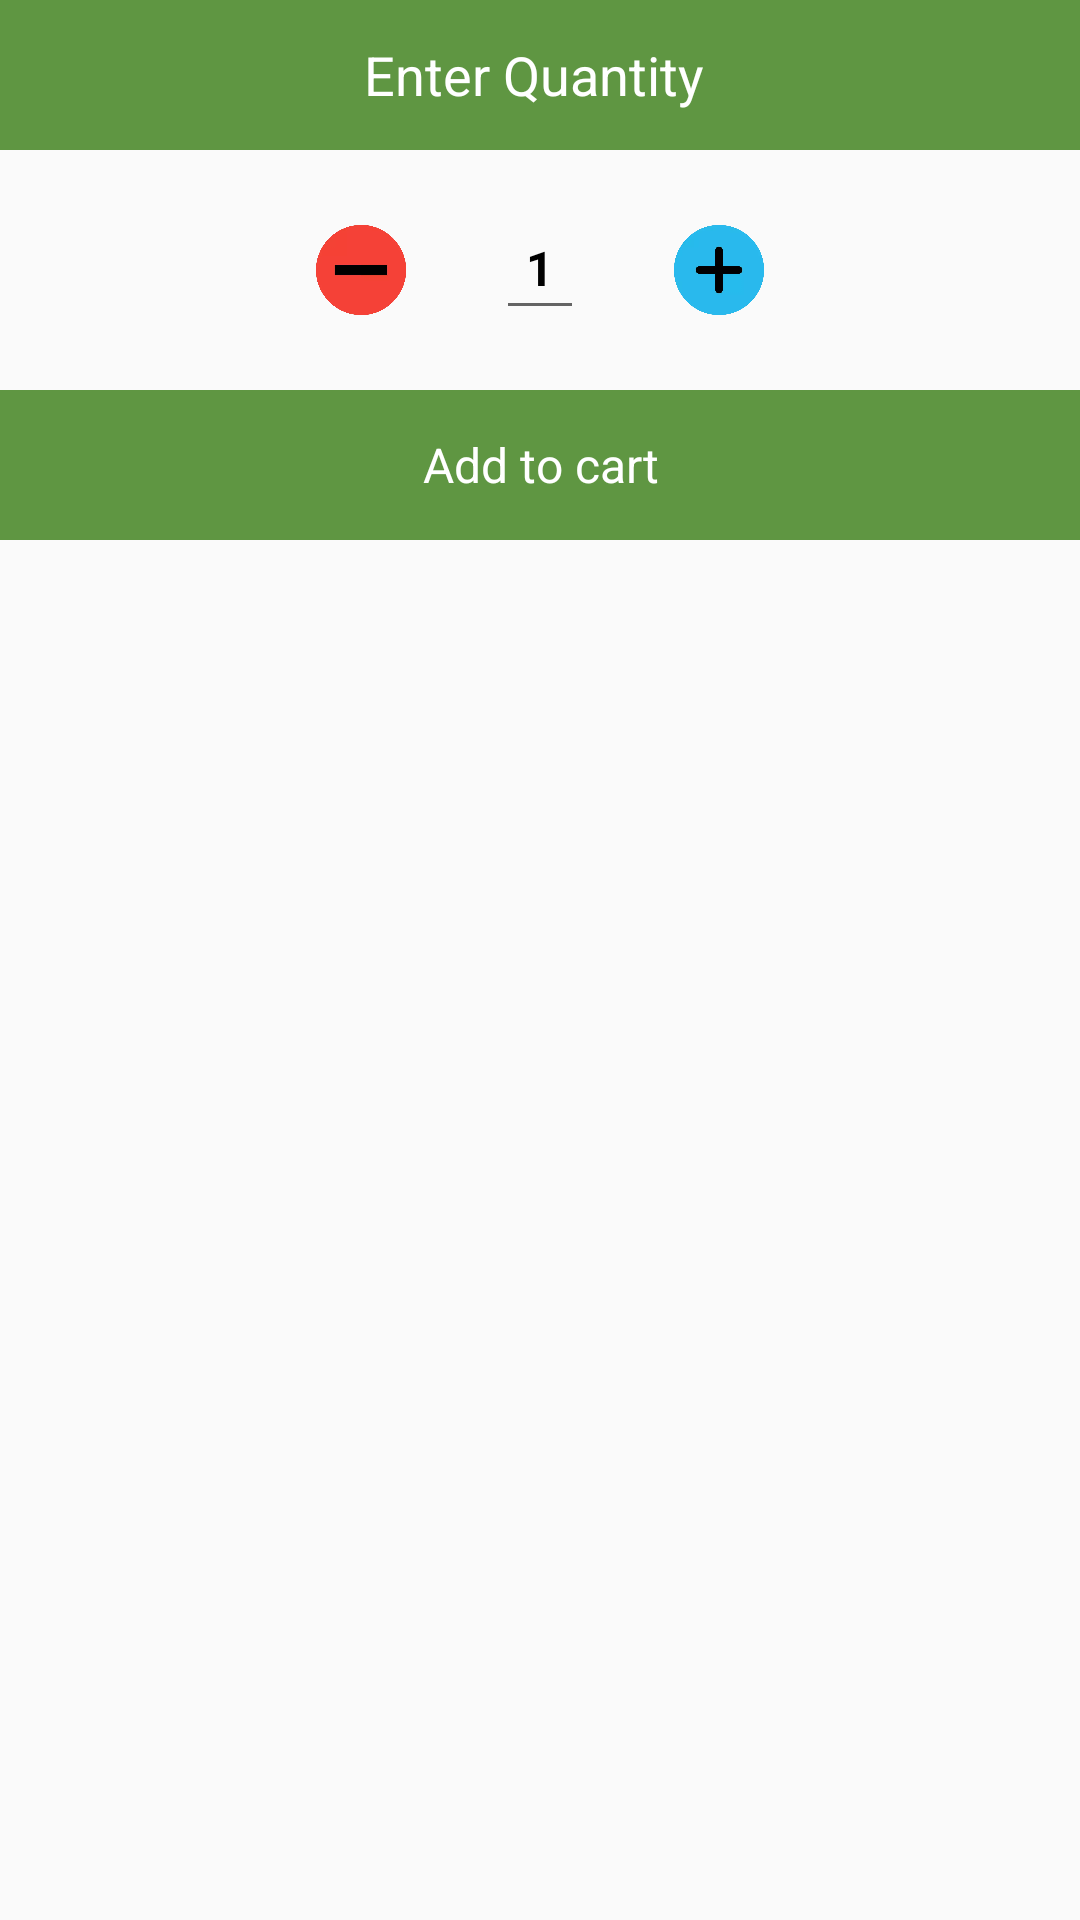

Locate icon controls on the screen. Image size 1080×1920, boxes as [x1, y1, x2, y2].
minus: [316, 225, 406, 315]
